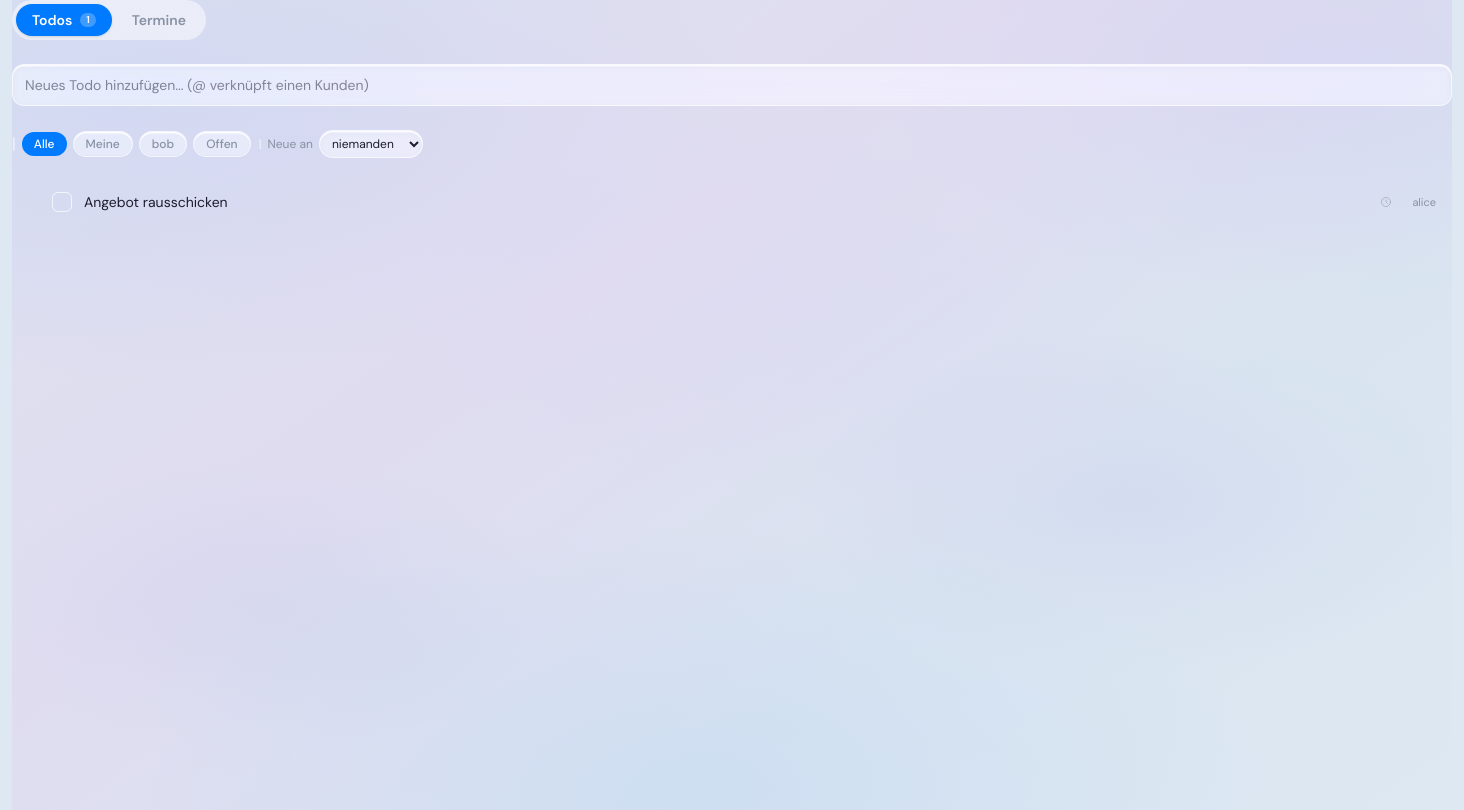
TodosPage › setzt den Kundennamen ein und merkt sich die Verknüpfung
Type "Angebot für @Acme" into the field labelled "Neues Todo".
click(732, 85); type("Angebot für @Acme")  # box [12, 64, 1452, 106]
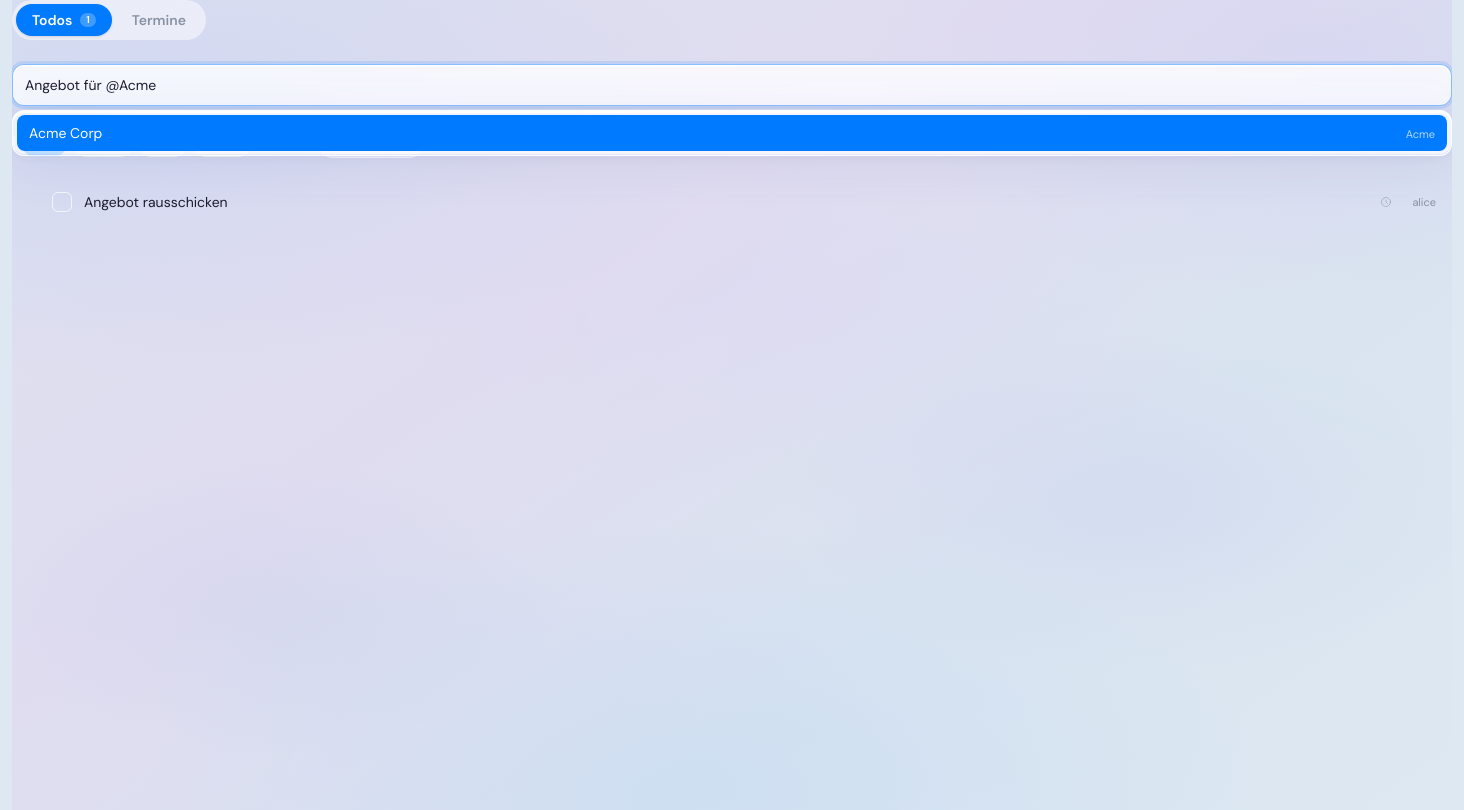
Click the option "Acme Corp Acme".
click(66, 133)  # box [17, 115, 1447, 151]
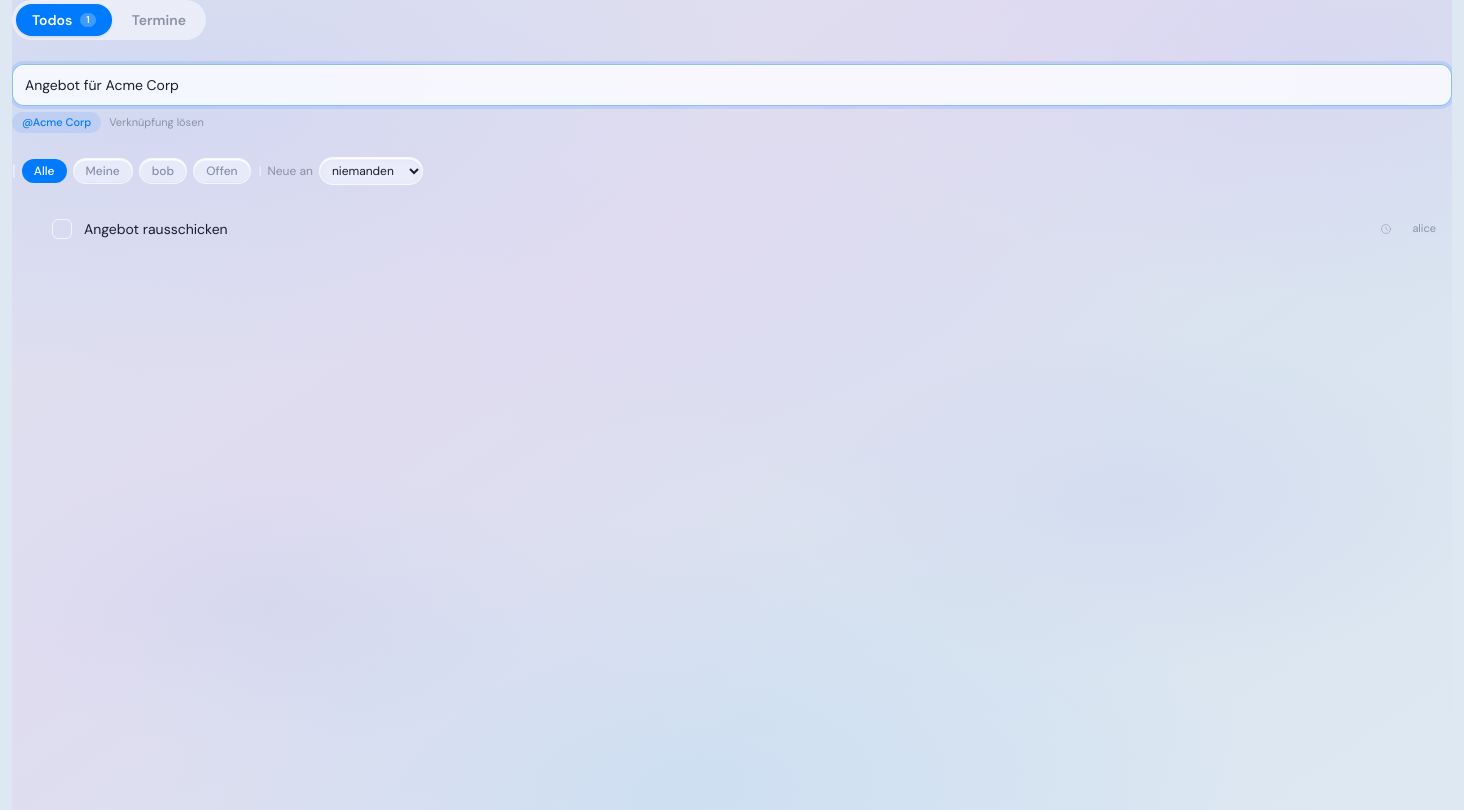
Expected: the field named "Neues Todo" holds "Angebot für Acme Corp", [12, 64, 1452, 106]
Expected: the text "@Acme Corp" is shown, [12, 112, 101, 132]
